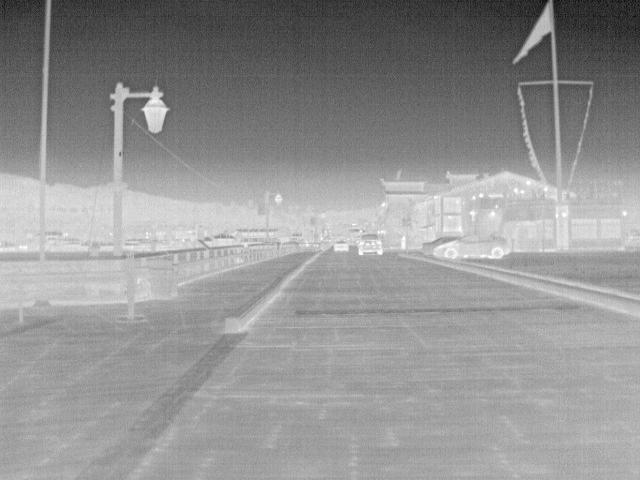car: (435, 230, 511, 262), (423, 236, 462, 257), (356, 231, 384, 256), (332, 238, 350, 252)
person: (399, 233, 408, 251)
